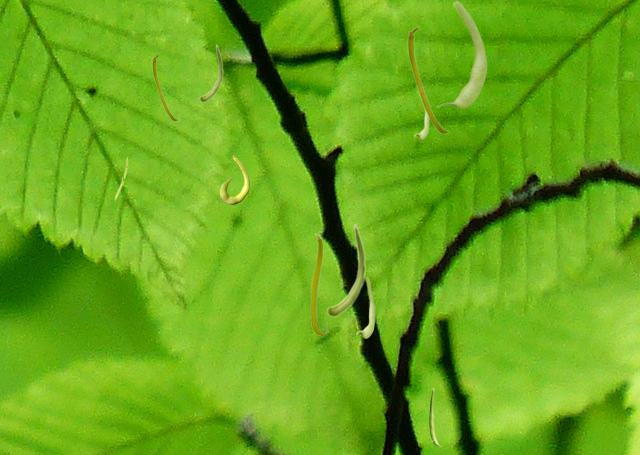french_bean: (436, 0, 486, 107), (407, 26, 448, 133), (326, 223, 365, 316), (152, 54, 177, 120), (310, 233, 326, 335), (219, 155, 248, 203), (199, 44, 222, 101), (356, 276, 374, 337), (429, 388, 441, 445), (114, 156, 127, 204), (414, 110, 428, 138)
